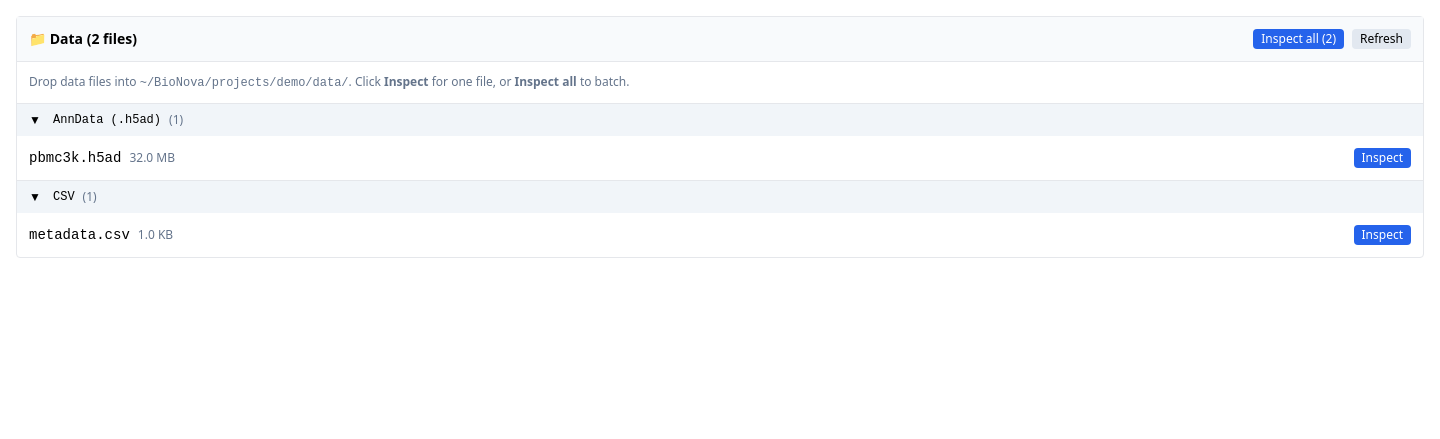
it: DataPanel › inspects file on click and shows shape
Expected: the text "pbmc3k.h5ad" is shown, [29, 148, 121, 168]
Click the button with test id "data-inspect-pbmc3k.h5ad".
click(1382, 158)  # box [1354, 148, 1411, 168]
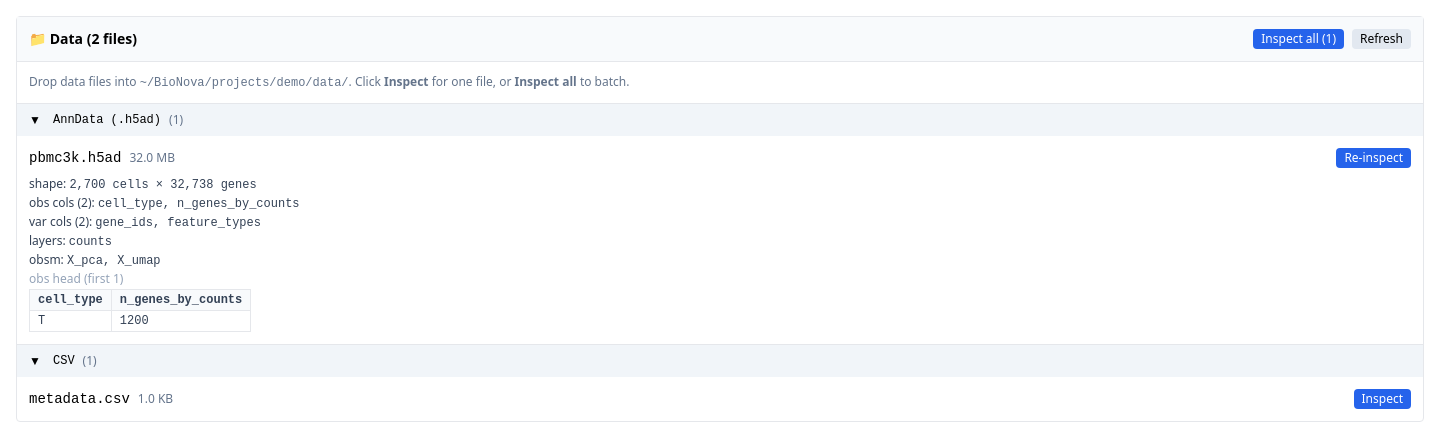
Now the text "2,700 cells × 32,738 genes" is shown, box [69, 178, 257, 192]
